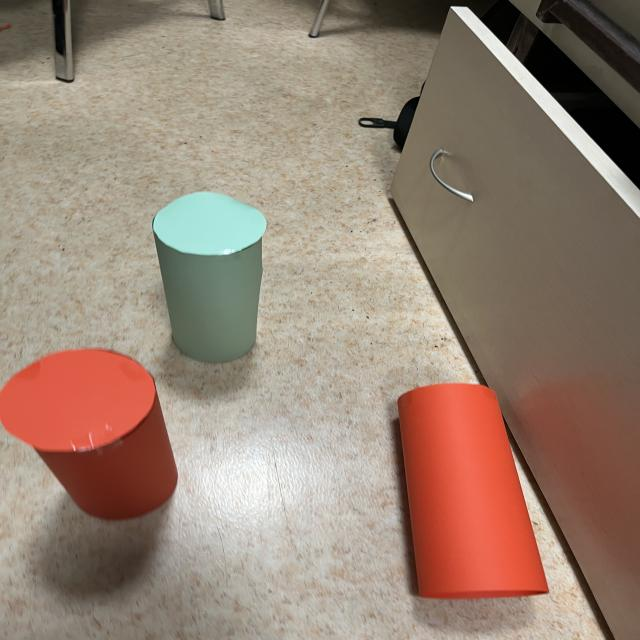meta: (153, 192, 266, 363)
przeszkoda: (398, 383, 548, 598), (0, 349, 178, 520)
